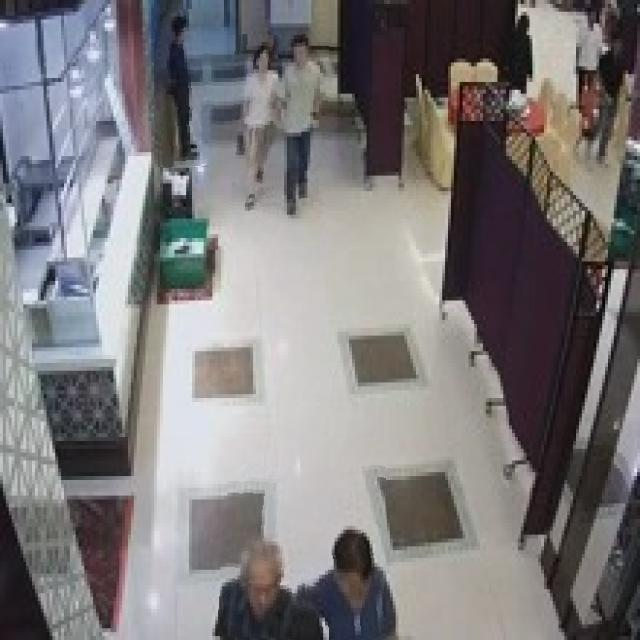normal: (220, 438, 310, 640), (301, 441, 386, 640), (155, 8, 216, 167), (232, 34, 284, 214), (279, 33, 329, 216)
